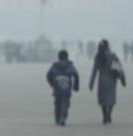person: (88, 37, 127, 125), (45, 49, 80, 126), (86, 40, 96, 60), (123, 41, 131, 62), (77, 39, 85, 57)
